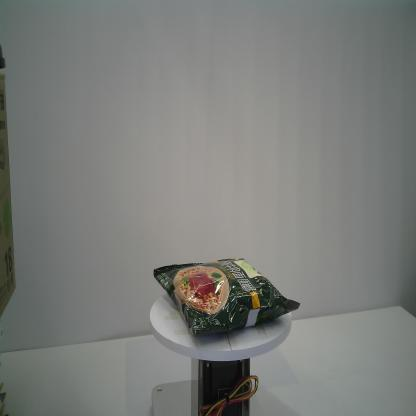Instant Noodles: (152, 253, 302, 340)
